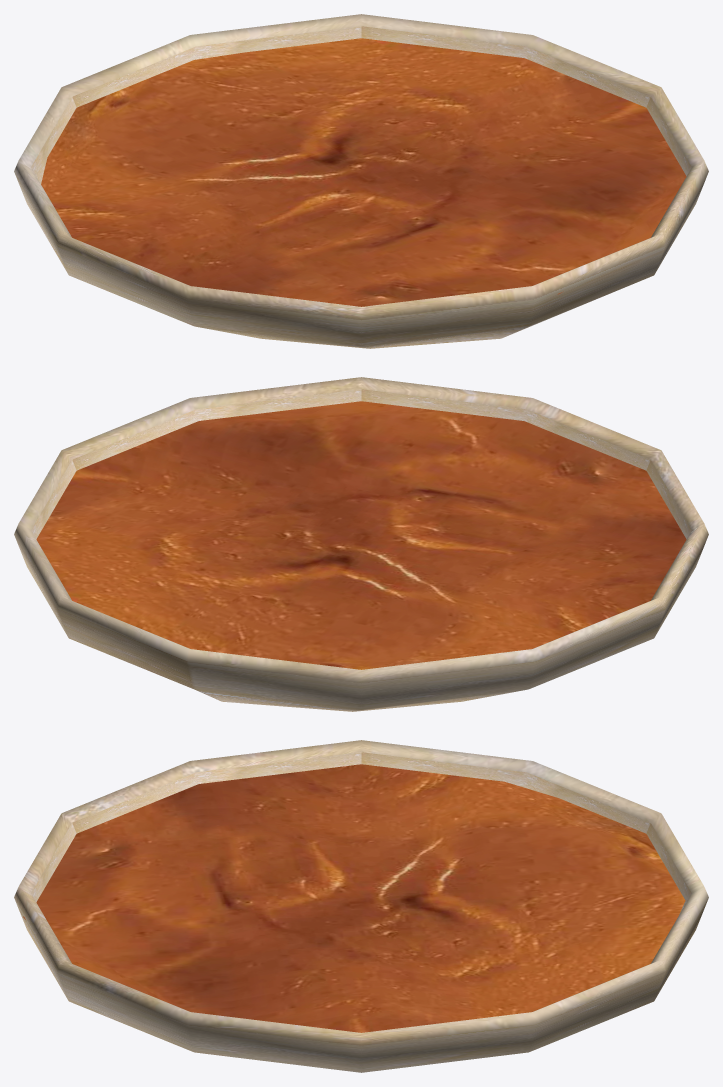
The model's file is pumpkintart.fbx.
The picture shows the model from 3 angles, top to bottom: view 1: azimuth 30°, elevation 25°; view 2: azimuth 150°, elevation 25°; view 3: azimuth 270°, elevation 25°; orthographic projection.
Visible parts, largest first — view 1: pie, crust; view 2: pie, crust; view 3: pie, crust.
Part boxes in pixels (x1=…): pie: x1=41, y1=38, x2=686, y2=306; crust: x1=14, y1=14, x2=708, y2=348; pie: x1=36, y1=401, x2=686, y2=669; crust: x1=14, y1=377, x2=708, y2=711; pie: x1=23, y1=764, x2=685, y2=1032; crust: x1=14, y1=740, x2=708, y2=1072.
Size of the model in its own units: 19.89 by 2.72 by 19.69.
